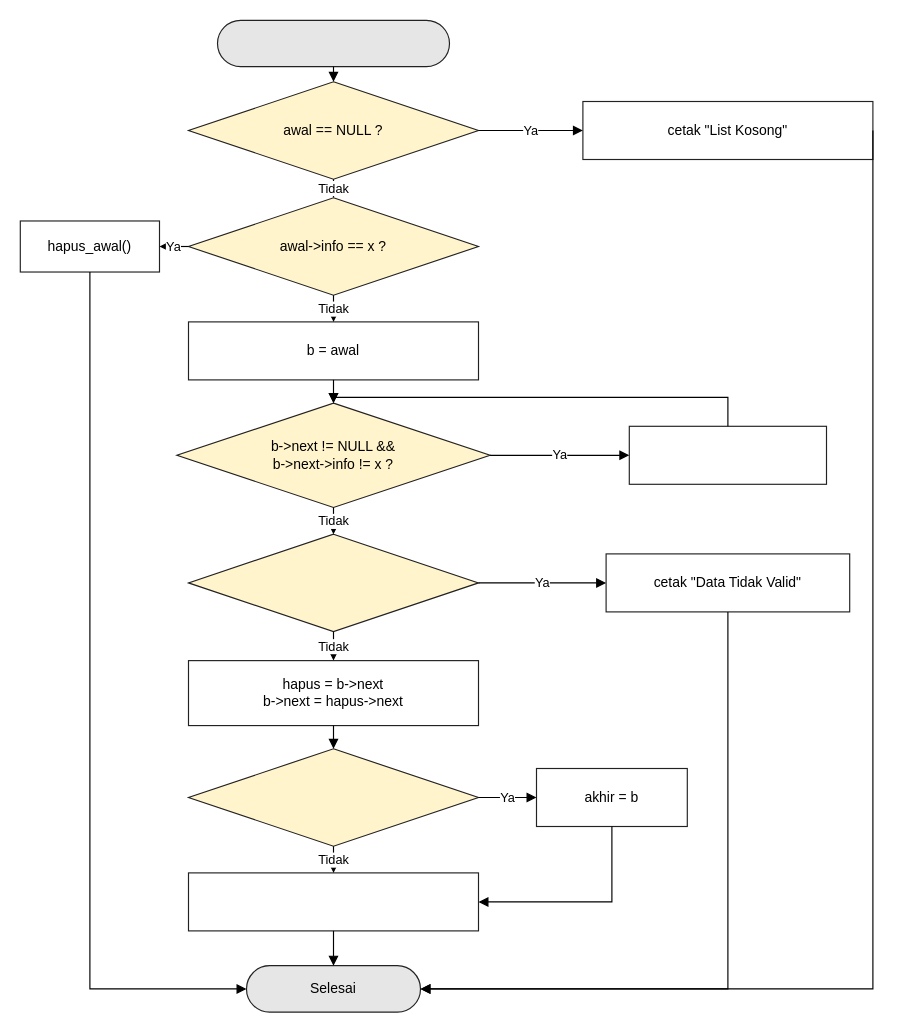
The diagram is 902 pixels wide and 1032 high, and some of its shapes have lost their labels. Each missing label, with the centre of its shape:
b = b->next: point (727, 454)
b->next == NULL ? (x tidak ketemu): point (332, 582)
delete hapus: point (332, 901)
hapus == akhir ?: point (332, 797)
Mulai (x = data dicari): point (332, 43)
